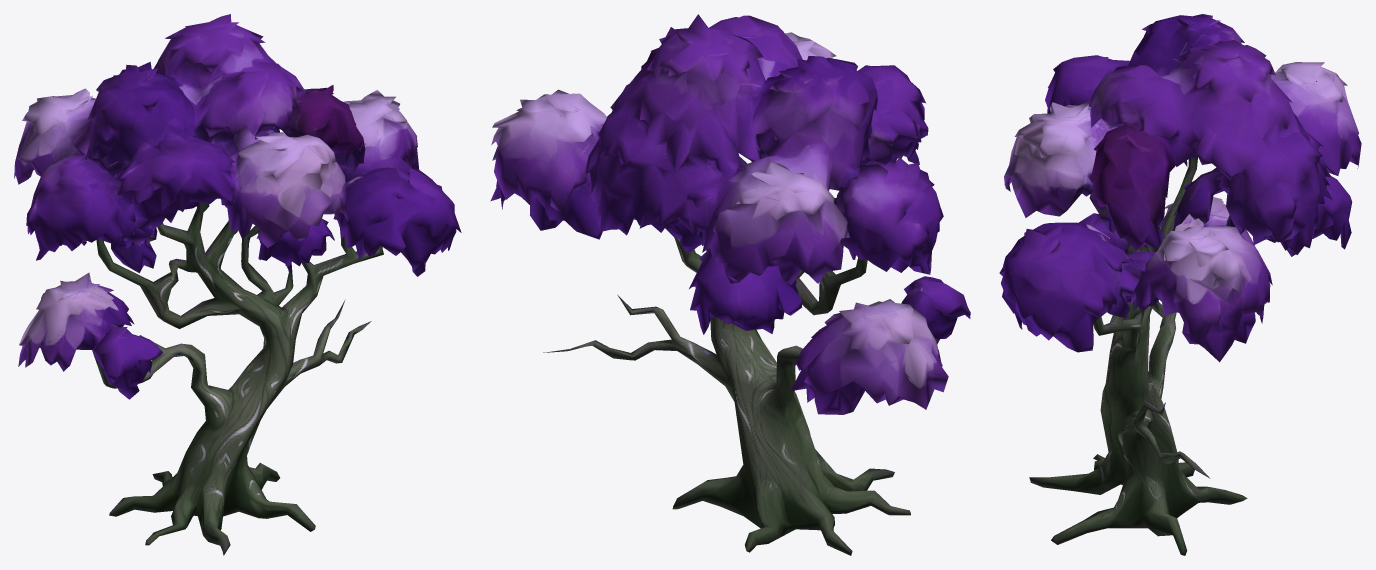
The model's file is skyveil-purple-jacaranda.glb.
3 renders of one model, left to right at view 1: azimuth 30°, elevation 25°; view 2: azimuth 150°, elevation 25°; view 3: azimuth 270°, elevation 25°, orthographic. The views are drawn at different scales.
Visible parts, largest first — view 1: Mesh_0; view 2: Mesh_0; view 3: Mesh_0.
Part boxes in pixels (<box>): Mesh_0: <box>14,14,461,555</box>; Mesh_0: <box>490,14,970,555</box>; Mesh_0: <box>999,14,1361,555</box>.
Size of the model in its own units: 1.71 by 1.89 by 1.26.
Materials: 1 (1 with a texture image).
